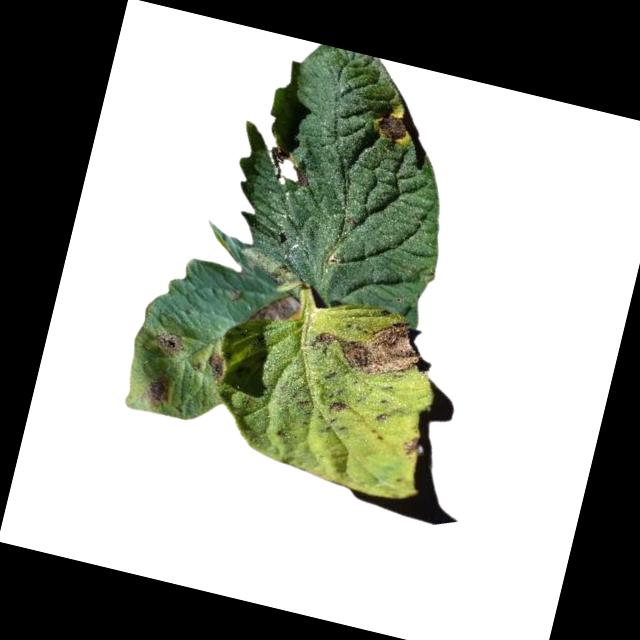Early_blight: (305, 302, 427, 387), (247, 286, 305, 332), (262, 145, 316, 190), (368, 110, 410, 144), (142, 371, 175, 408), (152, 329, 185, 360), (201, 352, 225, 386), (399, 435, 421, 458), (326, 399, 347, 417)
